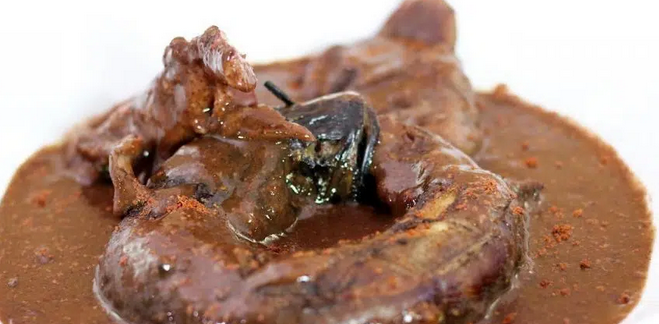kleba: (540, 170, 629, 301)
poisson fume: (135, 161, 504, 324)
